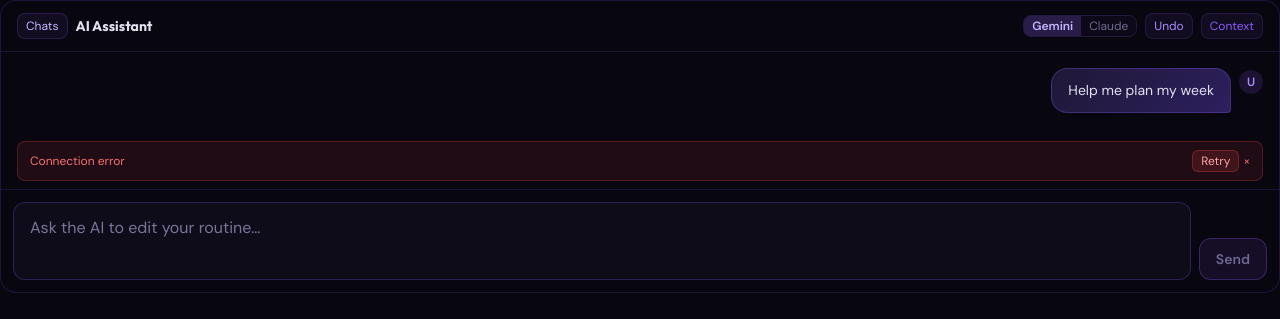
Test case: ChatPanel › clicking Retry resends the last user message text
The width and height of the screenshot is (1280, 319).
Click the button with aria-label "retry last message" at (1216, 161), box [1192,150,1239,172]
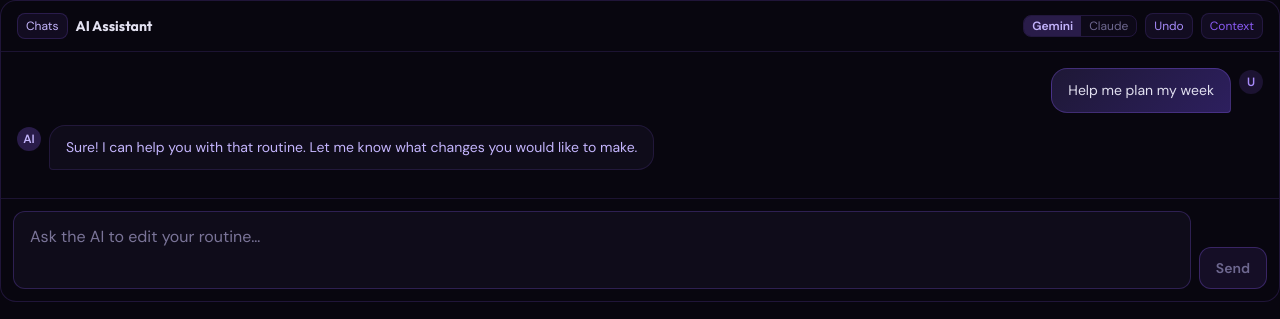
Expected: the message "Connection error Retry ×" is gone
Expected: the text "Sure!" is shown, [66,138,637,156]
